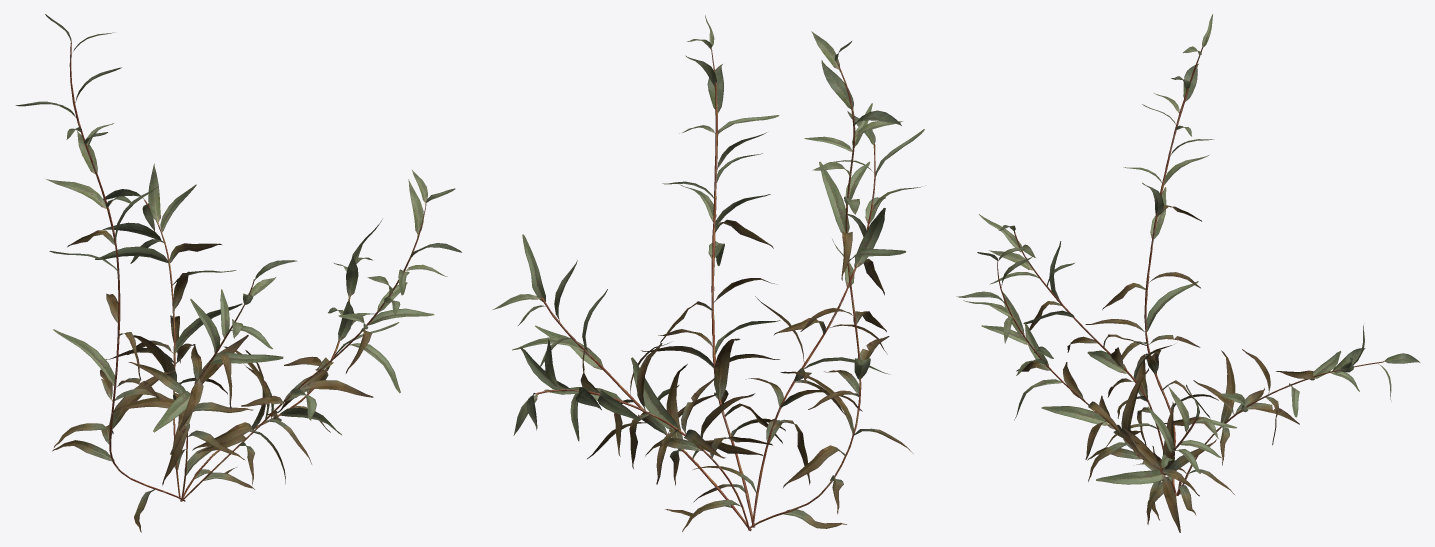
Rendered from shrub_02_a.glb.
3 renders of one model, left to right at view 1: azimuth 30°, elevation 25°; view 2: azimuth 150°, elevation 25°; view 3: azimuth 270°, elevation 25°, orthographic. The views are drawn at different scales.
Parts seen in each view (by area): view 1: shrub_02_a; view 2: shrub_02_a; view 3: shrub_02_a.
Part boxes in pixels (x1,y1,x2,y2): shrub_02_a: [15, 14, 461, 532]; shrub_02_a: [492, 15, 924, 531]; shrub_02_a: [956, 14, 1419, 532].
Size of the model in its own units: 1.31 by 1.69 by 1.64.
1 material, 1 textured.
